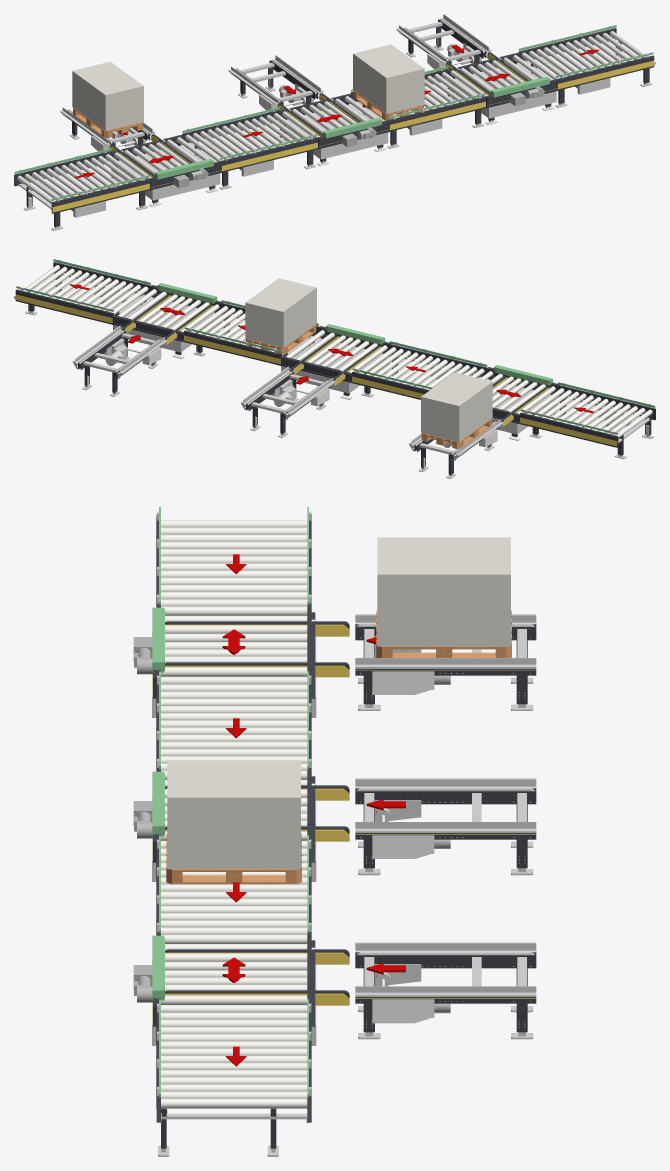
File: planta1.glb
3 renders of one model, top to bottom at view 1: azimuth 30°, elevation 25°; view 2: azimuth 150°, elevation 25°; view 3: azimuth 270°, elevation 25°, orthographic. The views are drawn at different scales.
Parts seen in each view (by area): view 1: RM8x10_800020-5500-429-19-0_B_IAD_000.step-1 (×4), Roller_Cross_Conveyor_Straight_400V_FlatBelt-1, Roller_Cross_Conveyor_Straight_400V_FlatBelt-2, Roller_Cross_Conveyor_Straight_400V_FlatBelt-3, EUR Palet-1, EUR Palet-2, Chain_Conveyor_Straight_400V_FlatChain-2, Chain_Conveyor_Straight_400V_FlatChain-3, Chain_Conveyor_Straight_400V_FlatChain-1; view 2: RM8x10_800020-5500-429-19-0_B_IAD_000.step-1 (×4), Roller_Cross_Conveyor_Straight_400V_FlatBelt-3, Roller_Cross_Conveyor_Straight_400V_FlatBelt-2, EUR Palet-1, EUR Palet-2, Roller_Cross_Conveyor_Straight_400V_FlatBelt-1, Chain_Conveyor_Straight_400V_FlatChain-2, Chain_Conveyor_Straight_400V_FlatChain-3, Chain_Conveyor_Straight_400V_FlatChain-1; view 3: RM8x10_800020-5500-429-19-0_B_IAD_000.step-1 (×4), EUR Palet-2, EUR Palet-1, Roller_Cross_Conveyor_Straight_400V_FlatBelt-1, Roller_Cross_Conveyor_Straight_400V_FlatBelt-3, Chain_Conveyor_Straight_400V_FlatChain-3, Chain_Conveyor_Straight_400V_FlatChain-2, Chain_Conveyor_Straight_400V_FlatChain-1, Roller_Cross_Conveyor_Straight_400V_FlatBelt-2.
Boxes of the visible parts, x1,y1,x2,y2 form: RM8x10_800020-5500-429-19-0_B_IAD_000.step-1 (×4): [14, 25, 655, 217]; Roller_Cross_Conveyor_Straight_400V_FlatBelt-1: [109, 134, 221, 206]; Roller_Cross_Conveyor_Straight_400V_FlatBelt-2: [277, 93, 389, 165]; Roller_Cross_Conveyor_Straight_400V_FlatBelt-3: [445, 52, 557, 124]; EUR Palet-1: [72, 61, 143, 138]; EUR Palet-2: [353, 44, 424, 120]; Chain_Conveyor_Straight_400V_FlatChain-2: [228, 55, 323, 112]; Chain_Conveyor_Straight_400V_FlatChain-3: [396, 14, 491, 71]; Chain_Conveyor_Straight_400V_FlatChain-1: [60, 107, 155, 153]; RM8x10_800020-5500-429-19-0_B_IAD_000.step-1 (×4): [14, 259, 655, 447]; Roller_Cross_Conveyor_Straight_400V_FlatBelt-3: [112, 283, 223, 358]; Roller_Cross_Conveyor_Straight_400V_FlatBelt-2: [280, 324, 391, 399]; EUR Palet-1: [421, 372, 492, 448]; EUR Palet-2: [245, 278, 316, 354]; Roller_Cross_Conveyor_Straight_400V_FlatBelt-1: [480, 365, 559, 440]; Chain_Conveyor_Straight_400V_FlatChain-2: [241, 366, 335, 437]; Chain_Conveyor_Straight_400V_FlatChain-3: [72, 325, 167, 396]; Chain_Conveyor_Straight_400V_FlatChain-1: [409, 419, 503, 478]; RM8x10_800020-5500-429-19-0_B_IAD_000.step-1 (×4): [156, 507, 311, 1123]; EUR Palet-2: [166, 760, 301, 884]; EUR Palet-1: [376, 537, 511, 657]; Roller_Cross_Conveyor_Straight_400V_FlatBelt-1: [133, 607, 349, 717]; Roller_Cross_Conveyor_Straight_400V_FlatBelt-3: [133, 935, 349, 1045]; Chain_Conveyor_Straight_400V_FlatChain-3: [355, 942, 536, 1039]; Chain_Conveyor_Straight_400V_FlatChain-2: [355, 778, 536, 875]; Chain_Conveyor_Straight_400V_FlatChain-1: [355, 614, 536, 710]; Roller_Cross_Conveyor_Straight_400V_FlatBelt-2: [133, 771, 349, 881].
Bounding box in the file's own units: 12.33 × 1.36 × 3.56.
Materials: 26 (1 with a texture image).
